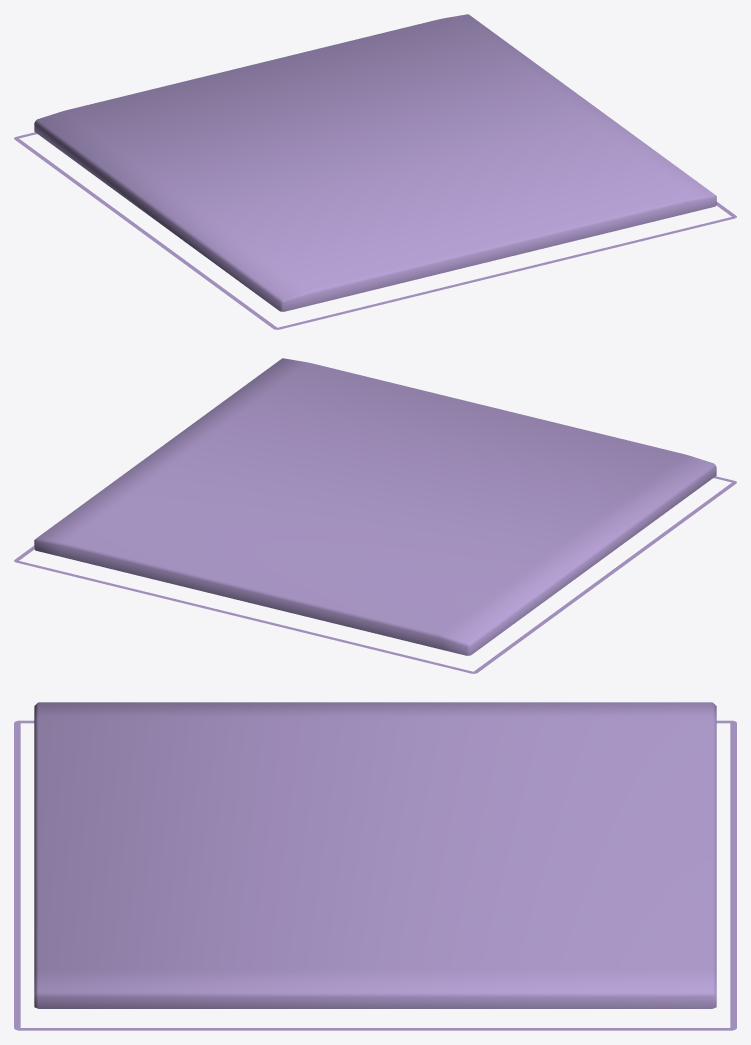
File: HoloSliderHueVal.fbx
3 views of the same model, one above another, from view 1: azimuth 30°, elevation 25°; view 2: azimuth 150°, elevation 25°; view 3: azimuth 270°, elevation 25° (orthographic). The views are drawn at different scales.
Parts seen in each view (by area): view 1: HoloUI.002; view 2: HoloUI.002; view 3: HoloUI.002.
Part boxes in pixels (<box>): HoloUI.002: <box>14,14,736,329</box>; HoloUI.002: <box>14,358,736,673</box>; HoloUI.002: <box>14,702,736,1030</box>.
Bounding box in the file's own units: 0.3725 × 0.0177 × 0.3669.
